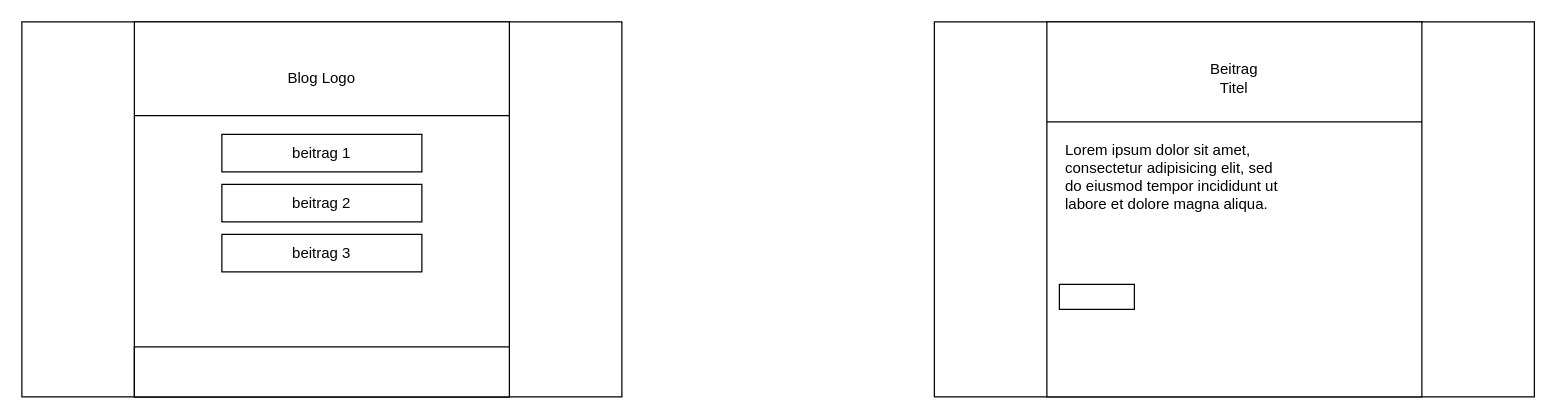
Image size: 1556x419. Some labels were removed from this diagram. The shapes that lost their labels are listed below. From the top down, each one's centre as x and y in pixels, then its label:
At pixel 1096 296: "go home".
At pixel 321 371: "Footer".
